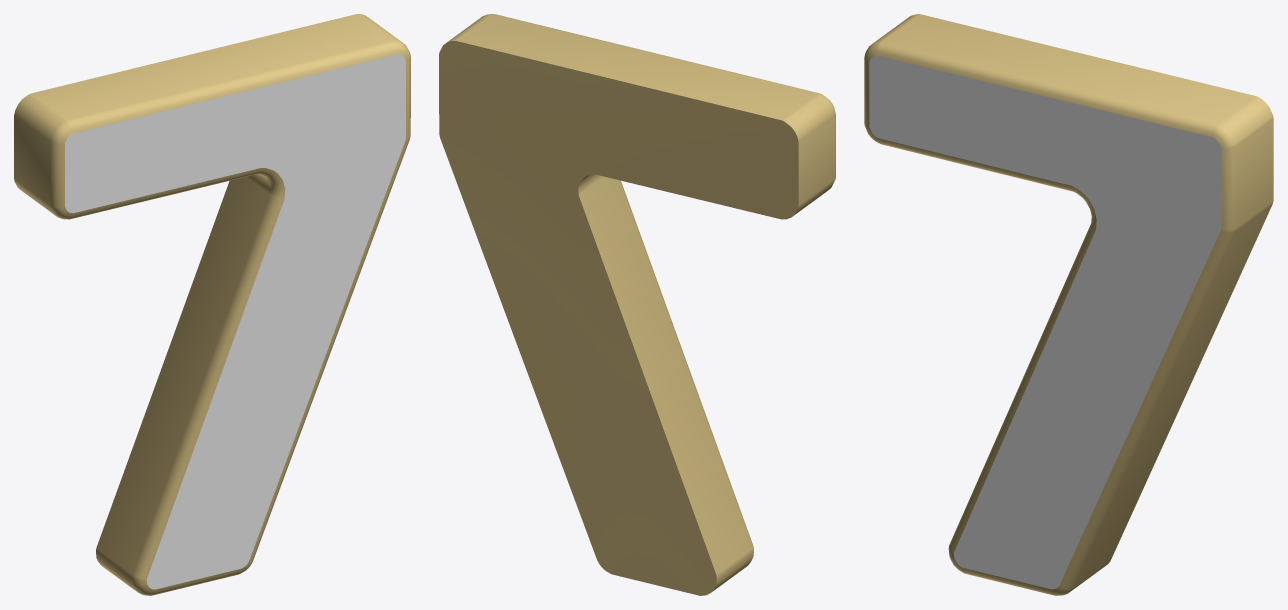
Rendered from LettersLightUp02_7.FBX.
3 views of the same model, side by side, from view 1: azimuth 30°, elevation 25°; view 2: azimuth 150°, elevation 25°; view 3: azimuth 330°, elevation 25° (orthographic). The views are drawn at different scales.
Visible parts, largest first — view 1: LettersLightUp02_7; view 2: LettersLightUp02_7; view 3: LettersLightUp02_7.
Part boxes in pixels (bbox=[...]): LettersLightUp02_7: bbox=[14, 14, 410, 595]; LettersLightUp02_7: bbox=[439, 14, 835, 595]; LettersLightUp02_7: bbox=[864, 14, 1273, 595].
Size of what is drawn, in the model's own units: 0.4553 by 0.5995 by 0.0912.
